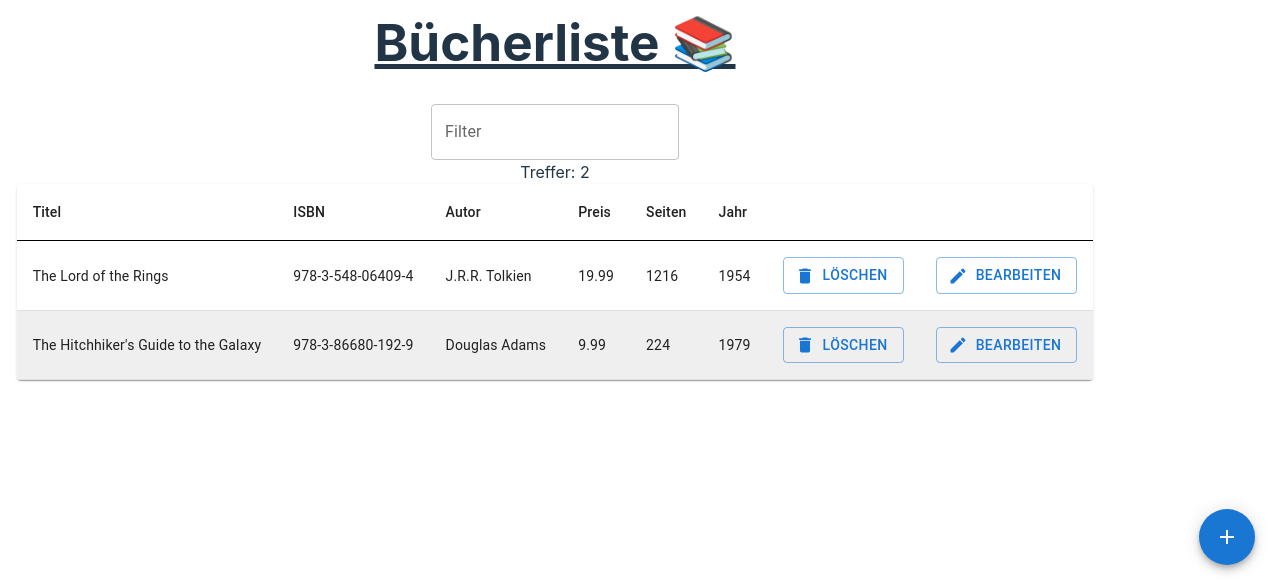
List › should filter the list
The width and height of the screenshot is (1275, 585).
Check: the number of cells with test id "title" is 2, box [17,241,277,310]; [17,310,277,380]
Type "Guid" into the field with test id "filter".
click(555, 132); type("Guid")  # box [431,104,679,160]
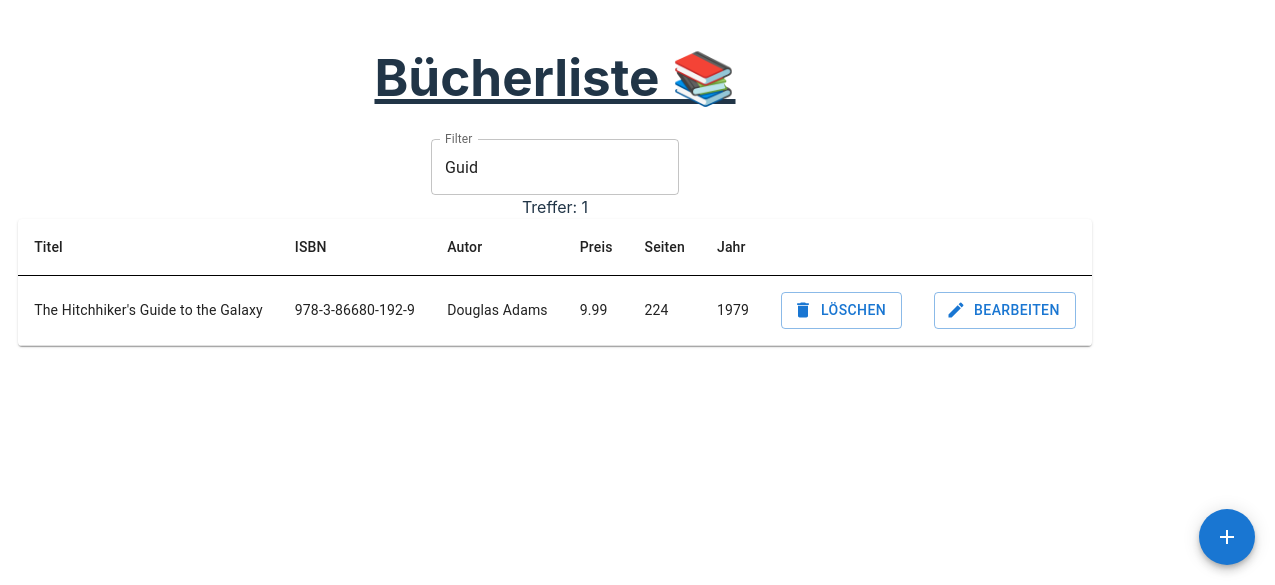
Check: the cell with test id "title" reads "The Hitchhiker's Guide to the Galaxy", box [34,302,263,318]
Check: the number of cells with test id "title" is 1, box [18,276,279,345]
Check: the text "The Lord of the Rings" is gone
